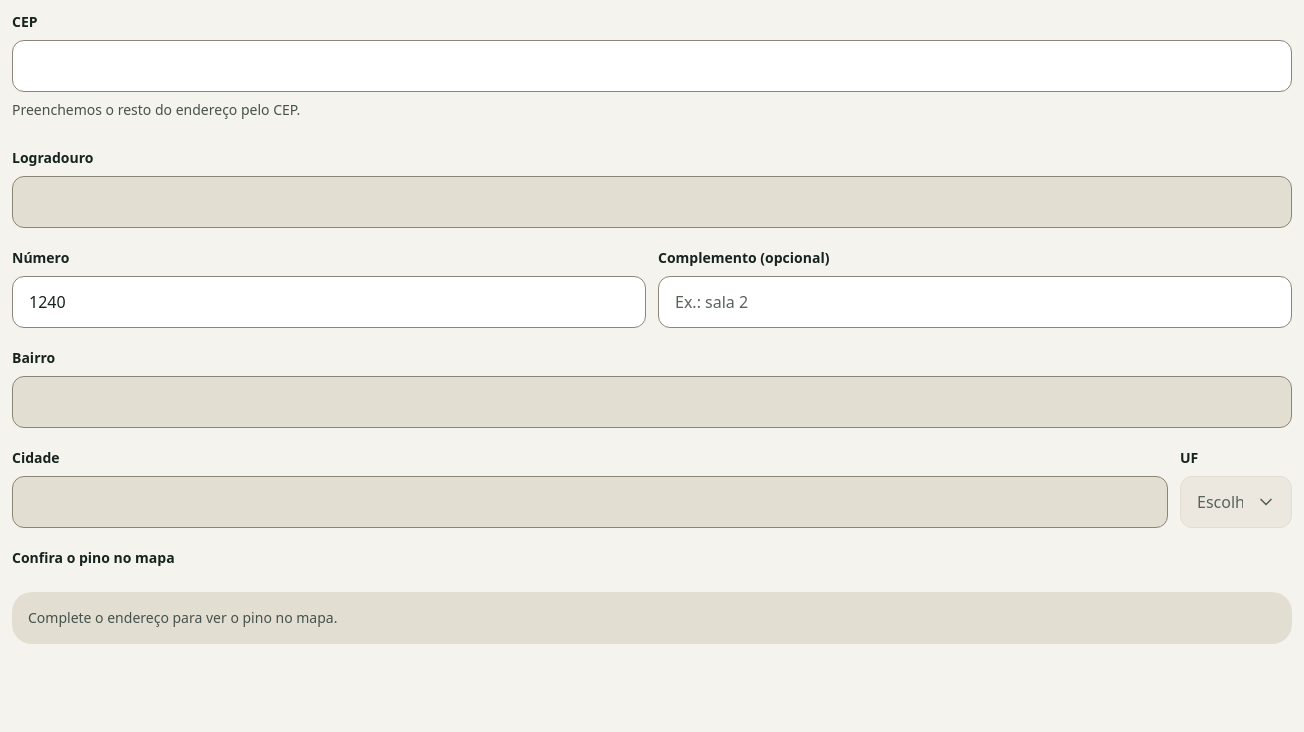
Test case: AddressFields › SIGN-20: CEP sem coordenada e geocoder sem resultado → pede para conferir o endereço
Type "04015012" into the field labelled "CEP" at x=652, y=66, box [12,40,1292,92]
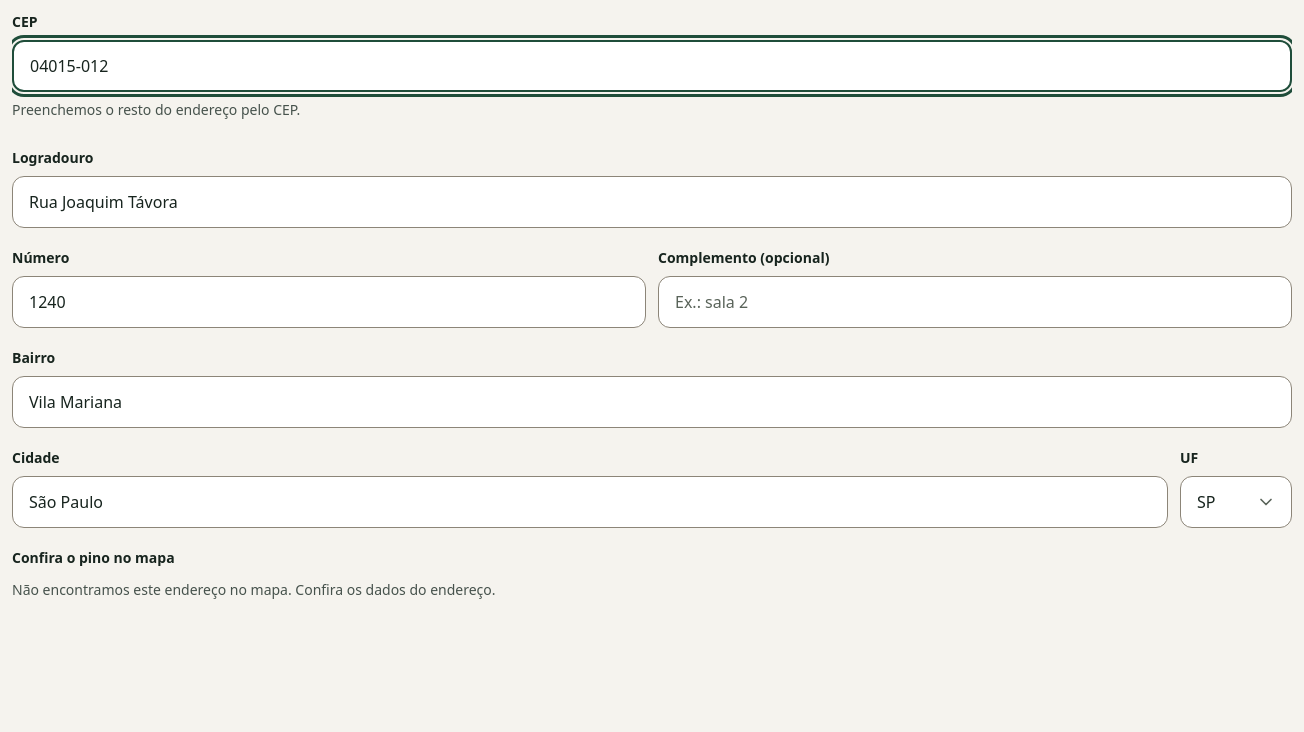
Result: the text "Não encontramos este endereço no mapa. Confira os dados do endereço." is shown at [12,580,496,599]
